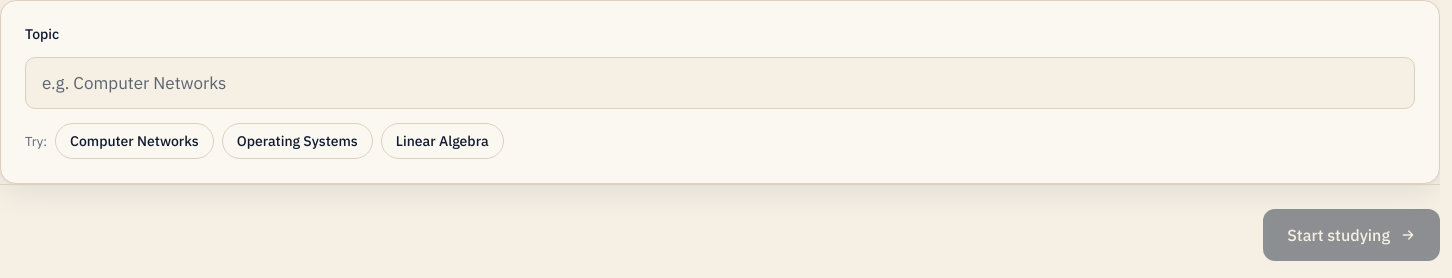
Test: TopicForm › maps the topic and opens the workspace on 201
This screenshot has width=1452, height=278.
Type " Linear Algebra " into the field labelled "Topic".
click(720, 83); type(" Linear Algebra ")  # box [25,57,1415,109]
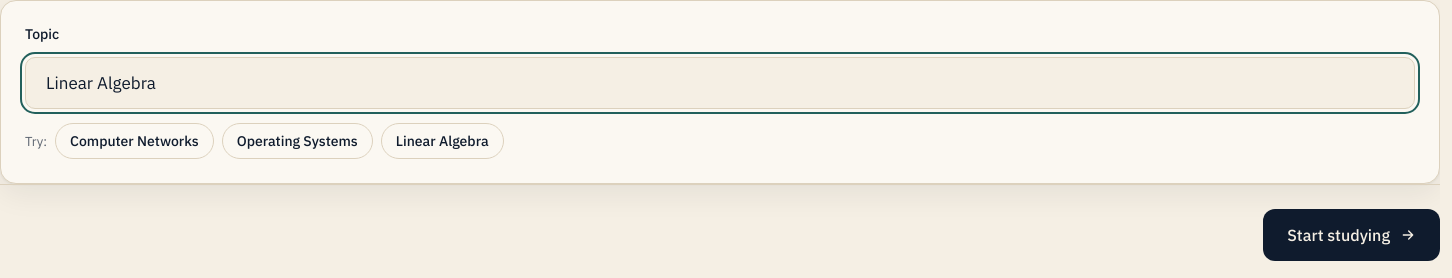
Click the button "Start studying".
click(1352, 235)  # box [1263,209,1440,261]
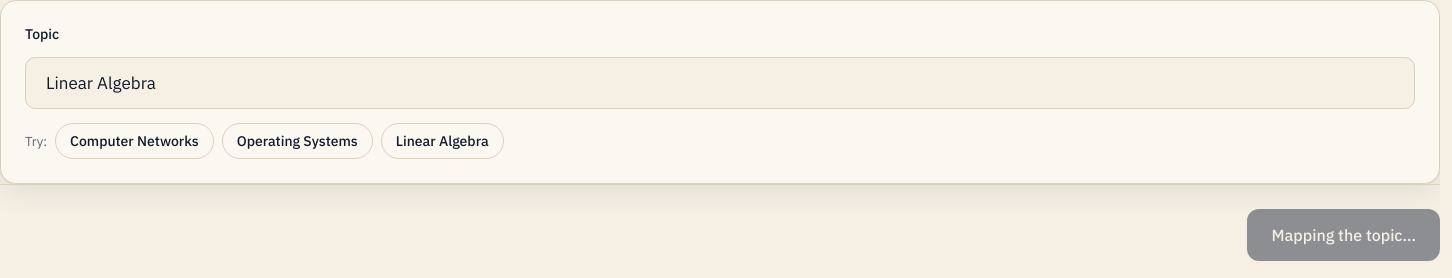
Expected: the text "Mapping the topic…" is shown, [1271,225,1416,245]
Expected: the button "Mapping the topic…" is disabled, [1247,209,1440,261]
